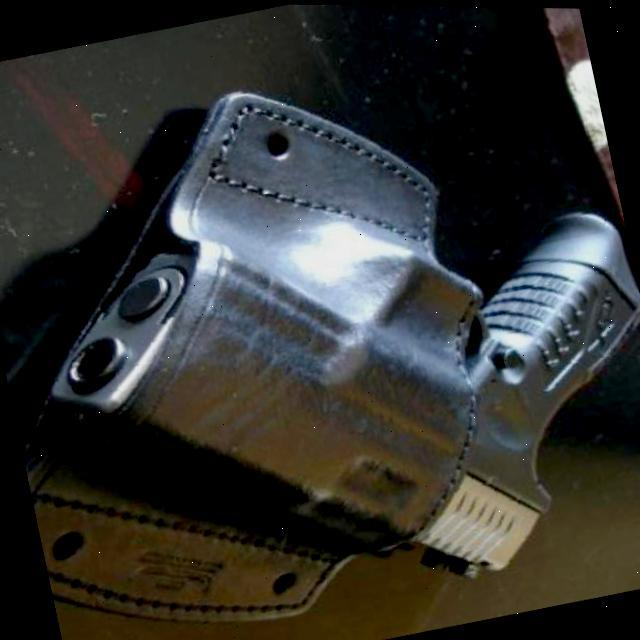gun: (25, 146, 640, 640)
